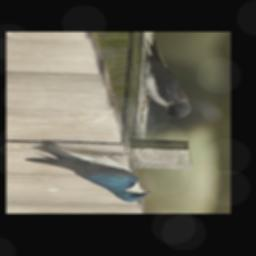Swallow: (24, 143, 151, 202)
